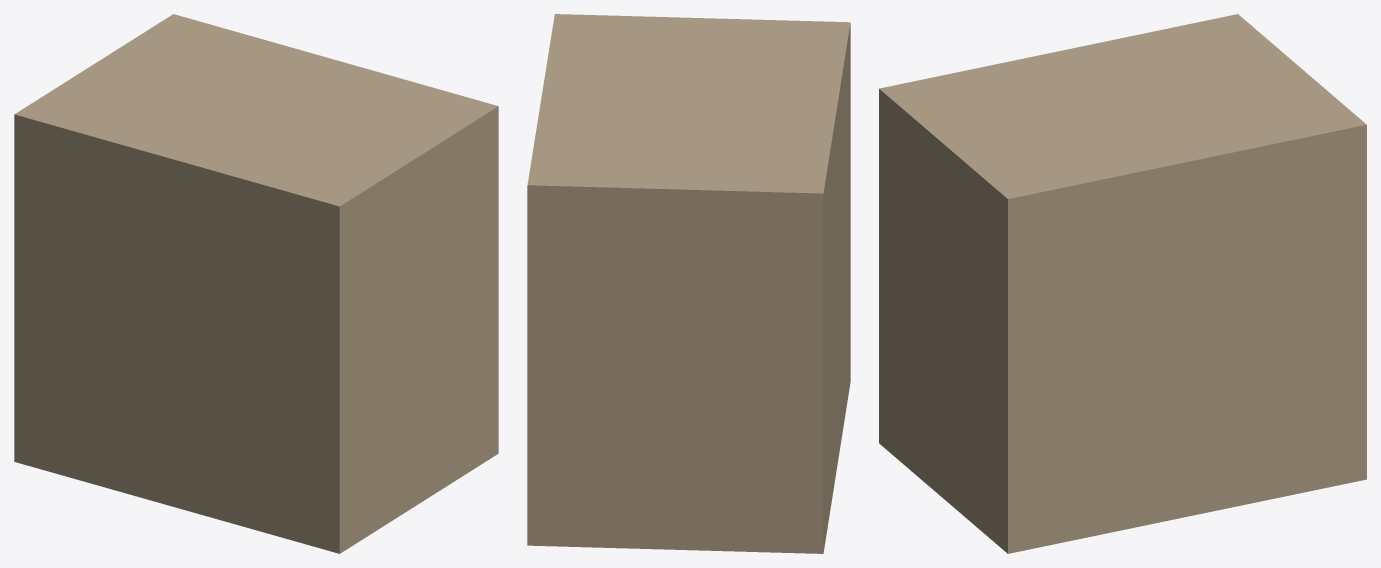
File: bld_107625326.dae
3 renders of one model, left to right at view 1: azimuth 30°, elevation 25°; view 2: azimuth 150°, elevation 25°; view 3: azimuth 270°, elevation 25°, orthographic. The views are drawn at different scales.
Visible parts, largest first — view 1: bld_107625326; view 2: bld_107625326; view 3: bld_107625326.
Boxes of the visible parts, x1,y1,x2,y2 form: bld_107625326: (14,14,498,553); bld_107625326: (527,14,850,553); bld_107625326: (879,14,1366,553).
Size of the model in its own units: 8.96 by 9.97 by 8.
